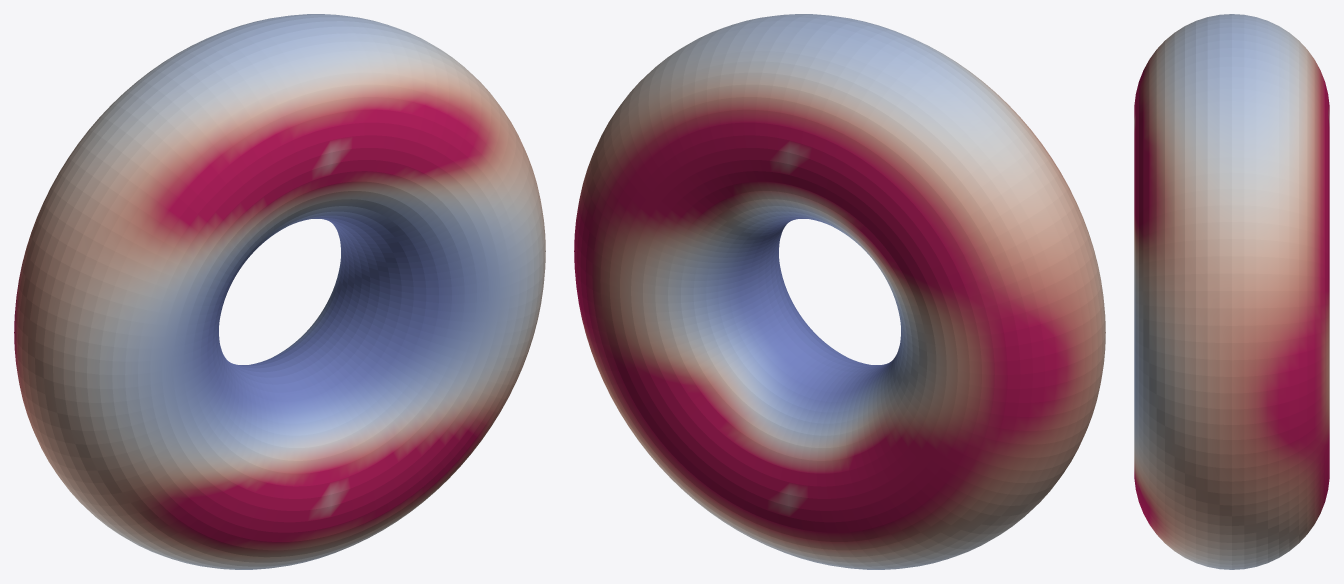
The picture shows the model from 3 angles, left to right: view 1: azimuth 30°, elevation 25°; view 2: azimuth 150°, elevation 25°; view 3: azimuth 270°, elevation 25°; orthographic projection. The views are drawn at different scales.
Visible parts, largest first — view 1: world; view 2: world; view 3: world.
Boxes of the visible parts, x1,y1,x2,y2 form: world: (14, 14, 545, 569); world: (574, 14, 1105, 569); world: (1134, 14, 1329, 569).
Size of the model in its own units: 21.6 by 21.6 by 7.59.
